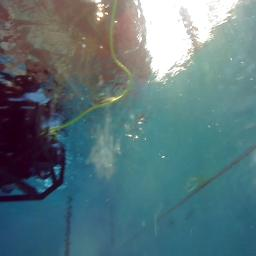back: (0, 89, 67, 201)
